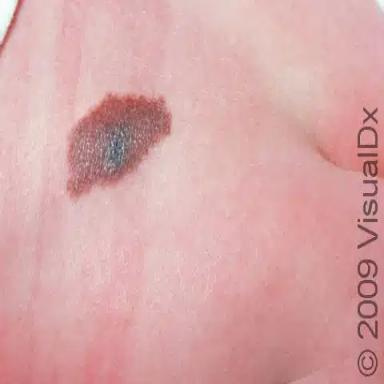nevus: (67, 94, 171, 199)
